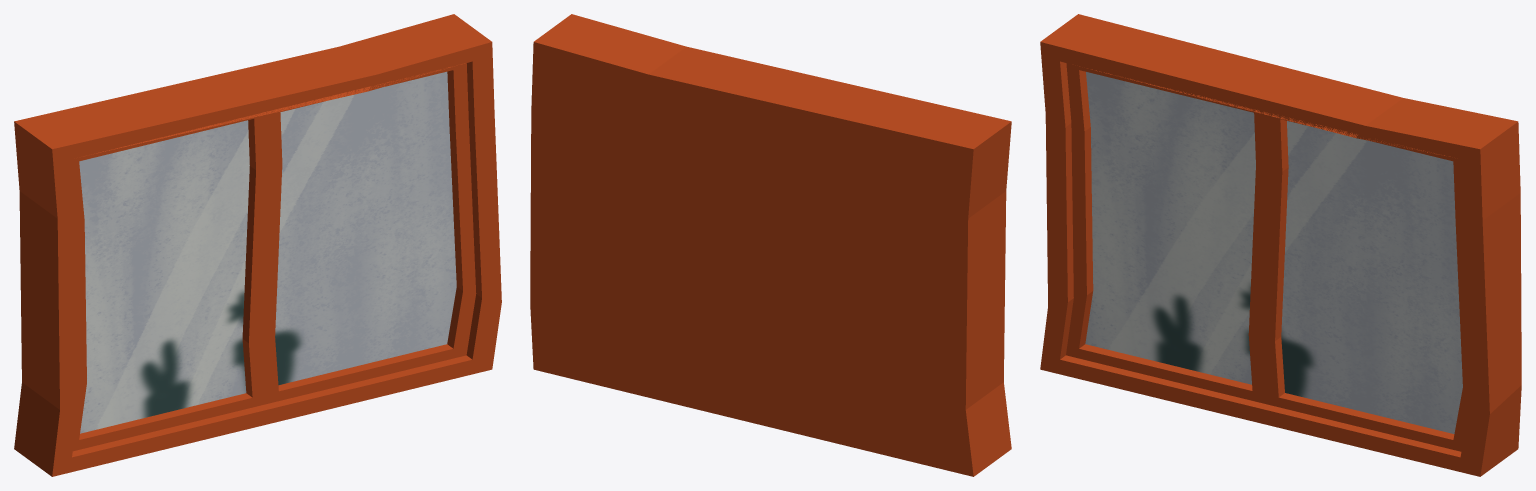
The model's file is Window12.fbx.
The picture shows the model from 3 angles, left to right: view 1: azimuth 30°, elevation 25°; view 2: azimuth 150°, elevation 25°; view 3: azimuth 330°, elevation 25°; orthographic projection.
Visible parts, largest first — view 1: Cube.078; view 2: Cube.078; view 3: Cube.078.
Boxes of the visible parts, x1,y1,x2,y2 form: Cube.078: (14, 14, 501, 476); Cube.078: (530, 14, 1011, 476); Cube.078: (1040, 14, 1521, 476).
Size of the model in its own units: 167 by 116 by 24.52.
